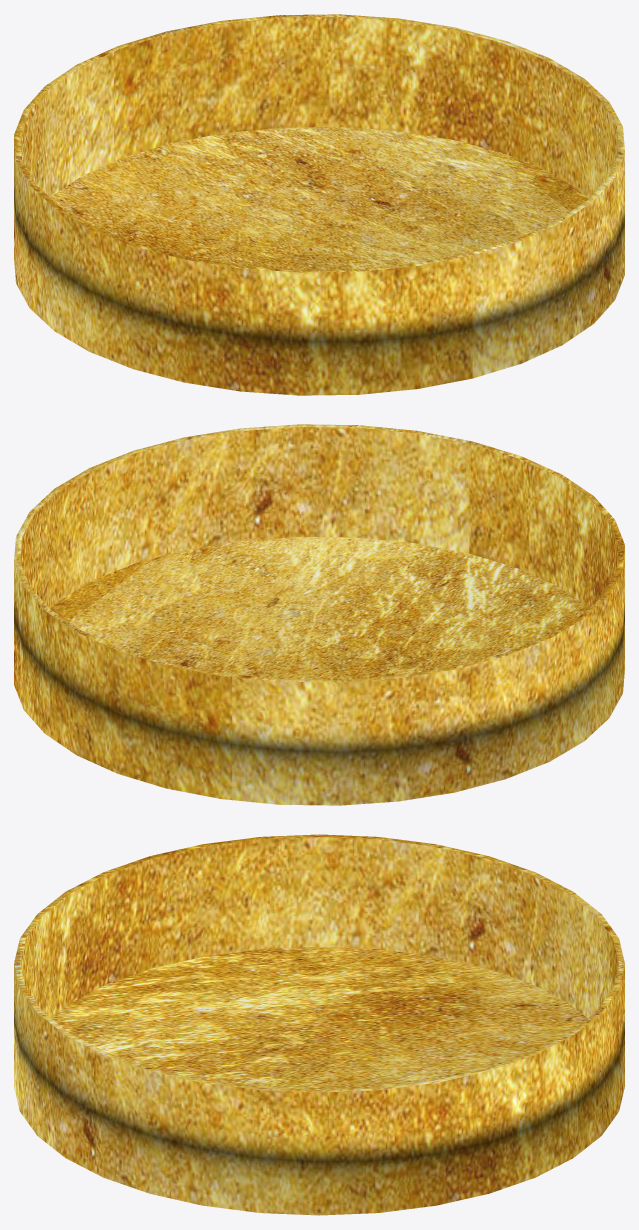
The model's file is GOAL.glb.
The picture shows the model from 3 angles, top to bottom: view 1: azimuth 30°, elevation 25°; view 2: azimuth 150°, elevation 25°; view 3: azimuth 270°, elevation 25°; orthographic projection.
Parts seen in each view (by area): view 1: Cylinder.007; view 2: Cylinder.007; view 3: Cylinder.007.
Boxes of the visible parts, x1,y1,x2,y2 form: Cylinder.007: (14,14,624,395); Cylinder.007: (14,424,624,805); Cylinder.007: (14,834,624,1215).
Bounding box in the file's own units: 4.88 × 1.08 × 4.88.
1 material, 1 textured.
